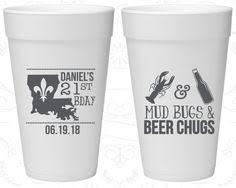Plastic cup: (0, 2, 235, 184)
